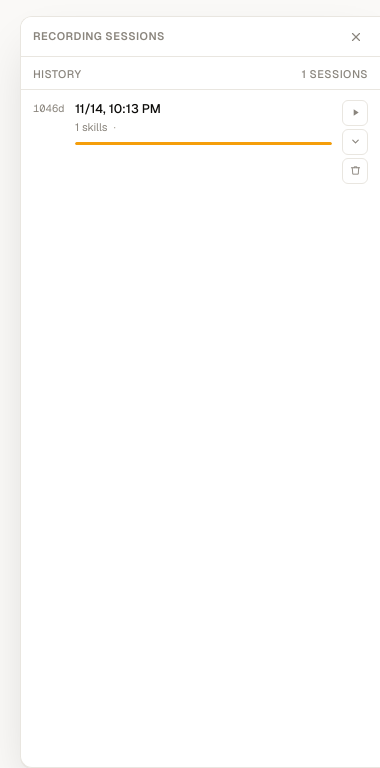
Test: SessionMonitorDrawer › expand button fetches and shows session events
Click the button with test id "expand-btn".
click(355, 142)  # box [342, 129, 368, 155]
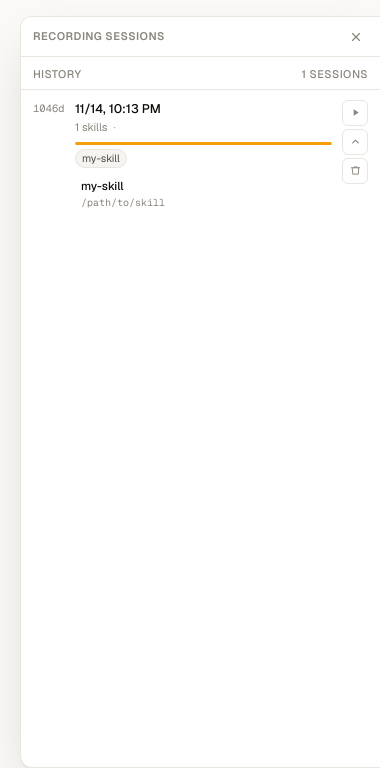
Result: the list with test id "session-events-list" is shown at [81, 178, 165, 209]
Result: the text "my-skill" is shown at [75, 149, 127, 168]
Result: the text "/path/to/skill" is shown at [81, 196, 165, 209]
